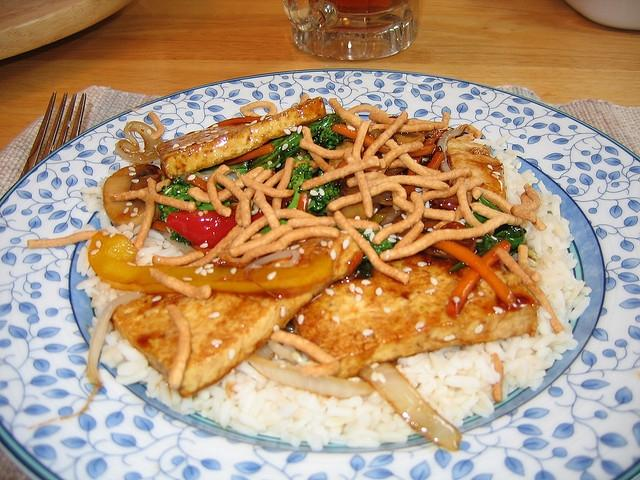broccoli: (159, 180, 214, 246), (246, 132, 304, 172), (356, 229, 400, 274), (482, 224, 526, 256), (286, 162, 314, 210), (307, 180, 340, 216), (315, 124, 348, 150)
